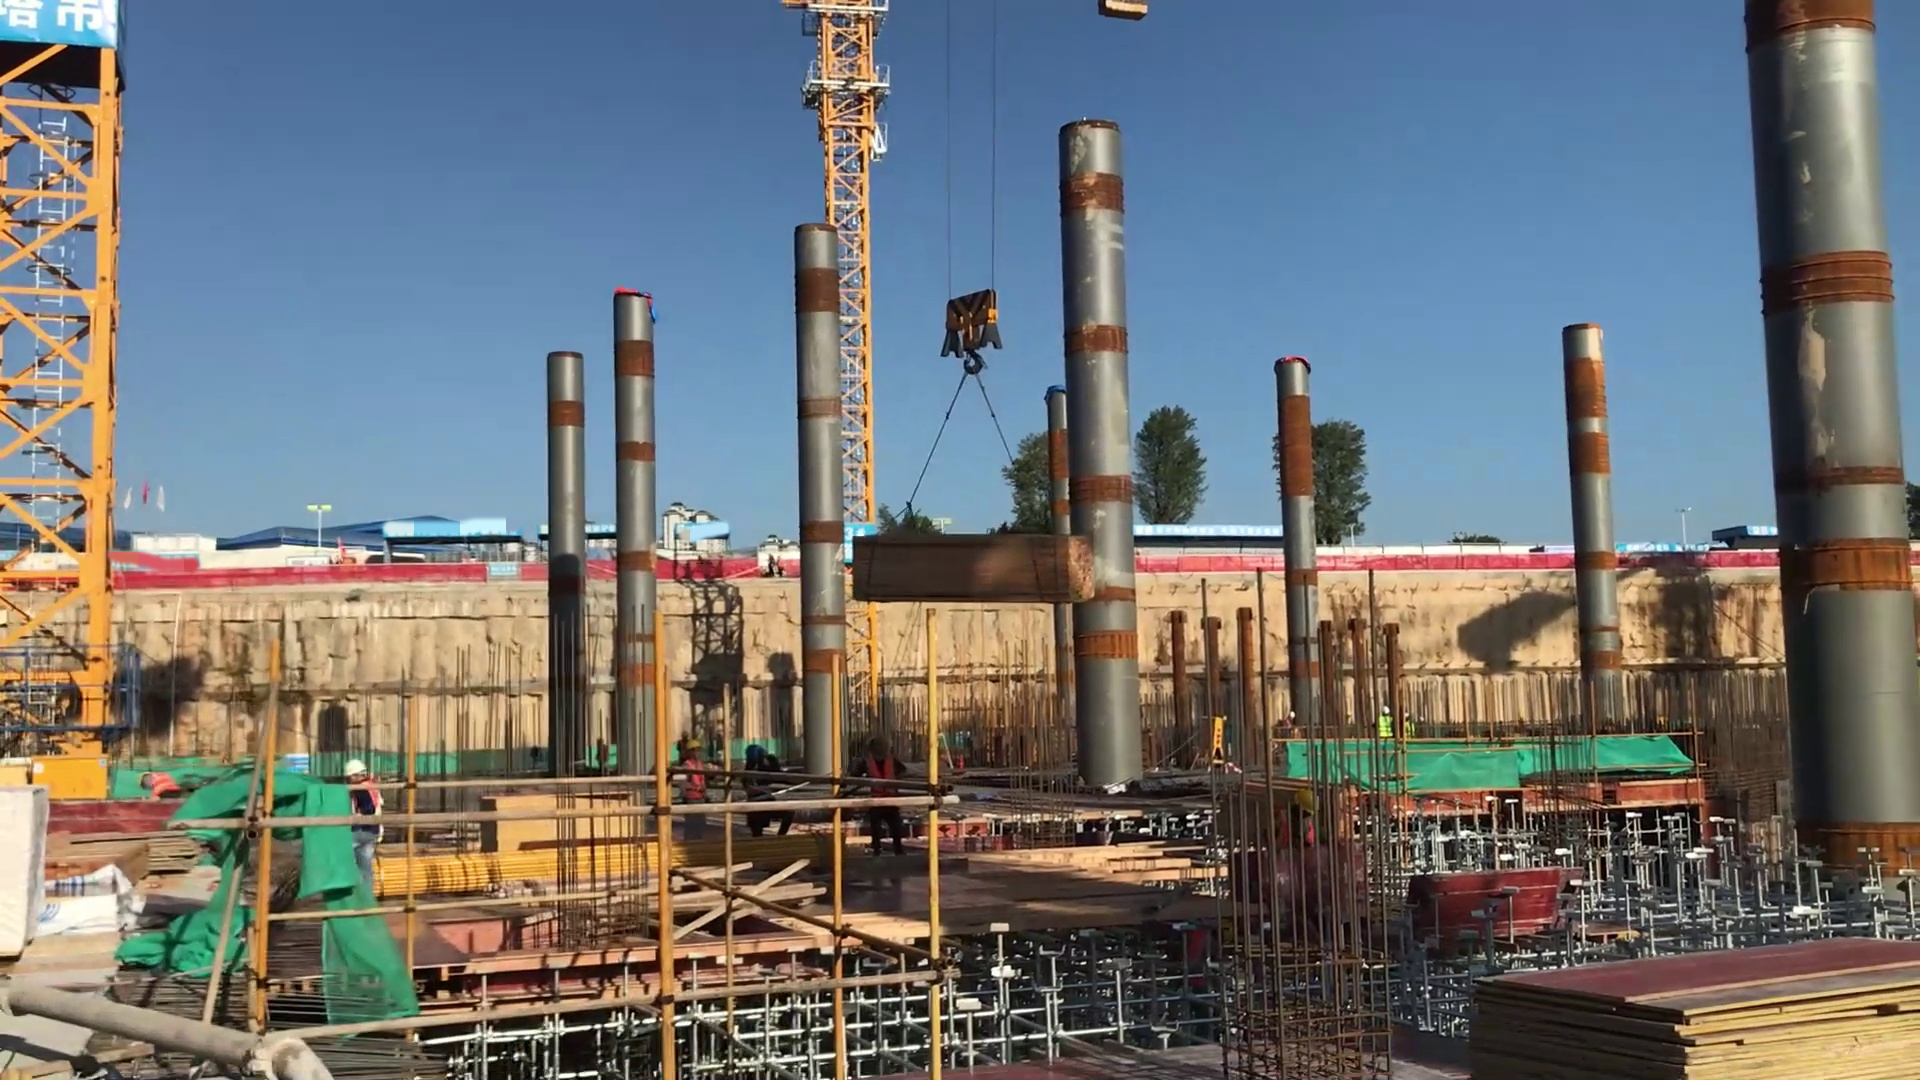helmet: (339, 754, 371, 784), (122, 765, 156, 786), (680, 731, 709, 752), (743, 745, 766, 760), (1378, 698, 1397, 716)
person: (848, 729, 920, 862), (338, 756, 401, 866), (663, 727, 720, 826), (744, 738, 789, 833)
vest: (862, 754, 898, 808), (351, 780, 378, 823), (143, 769, 185, 796), (683, 762, 712, 799), (1370, 715, 1395, 736)
